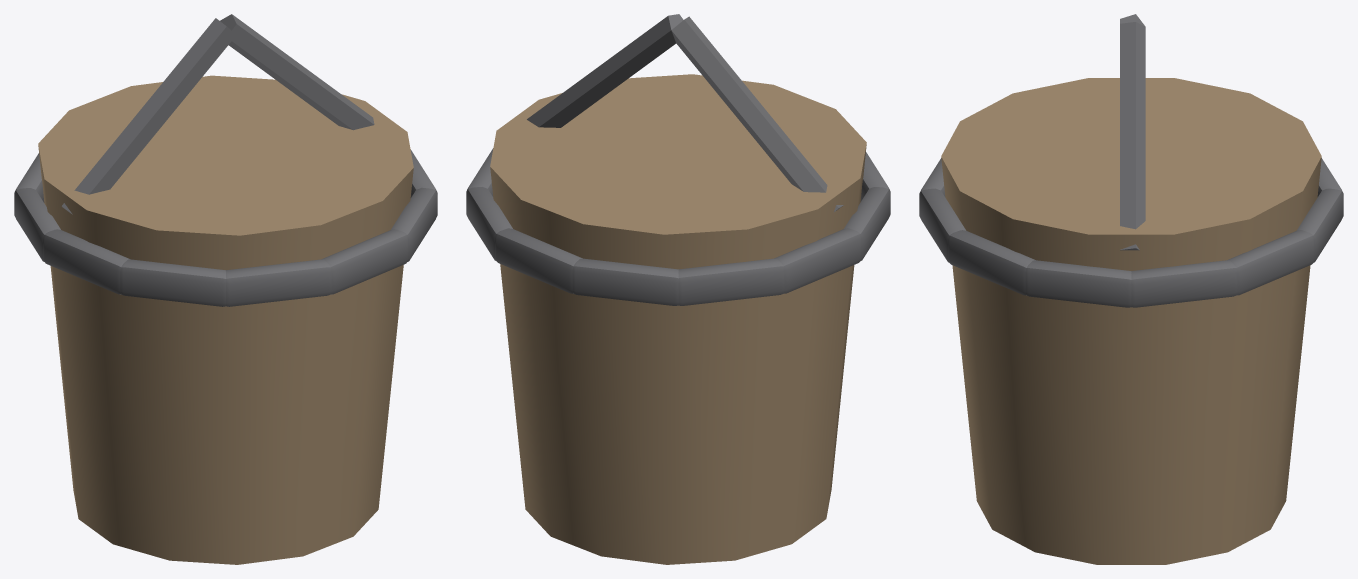
Rendered from bucket.glb.
3 renders of one model, left to right at view 1: azimuth 30°, elevation 25°; view 2: azimuth 150°, elevation 25°; view 3: azimuth 270°, elevation 25°, orthographic.
Visible parts, largest first — view 1: bucket; view 2: bucket; view 3: bucket.
Part boxes in pixels (x1=…): bucket: x1=14, y1=14, x2=437, y2=564; bucket: x1=466, y1=14, x2=890, y2=564; bucket: x1=919, y1=14, x2=1343, y2=564.
Size of the model in its own units: 0.3565 by 0.4483 by 0.3565.
